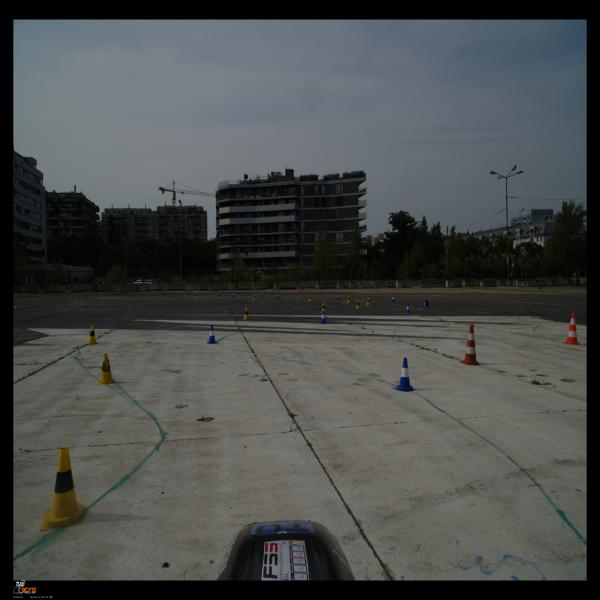blue_cone: (395, 357, 416, 392), (206, 325, 218, 344), (319, 310, 328, 324), (405, 303, 411, 314), (423, 300, 429, 307), (391, 295, 395, 302), (337, 293, 340, 300), (270, 289, 274, 294), (218, 290, 221, 296), (276, 293, 279, 299), (231, 292, 234, 297), (236, 290, 238, 294)
large_orange_cone: (460, 324, 481, 365), (563, 312, 581, 344)
orange_cone: (296, 288, 299, 293), (300, 287, 302, 292)
yellow_cone: (40, 447, 87, 531), (97, 353, 115, 385), (86, 325, 99, 345), (243, 307, 250, 320), (320, 302, 327, 312), (366, 298, 371, 306), (356, 300, 360, 309), (347, 295, 351, 303), (252, 294, 256, 301), (308, 294, 312, 301), (194, 292, 198, 298), (184, 292, 188, 296), (260, 288, 262, 293), (217, 290, 219, 294)
